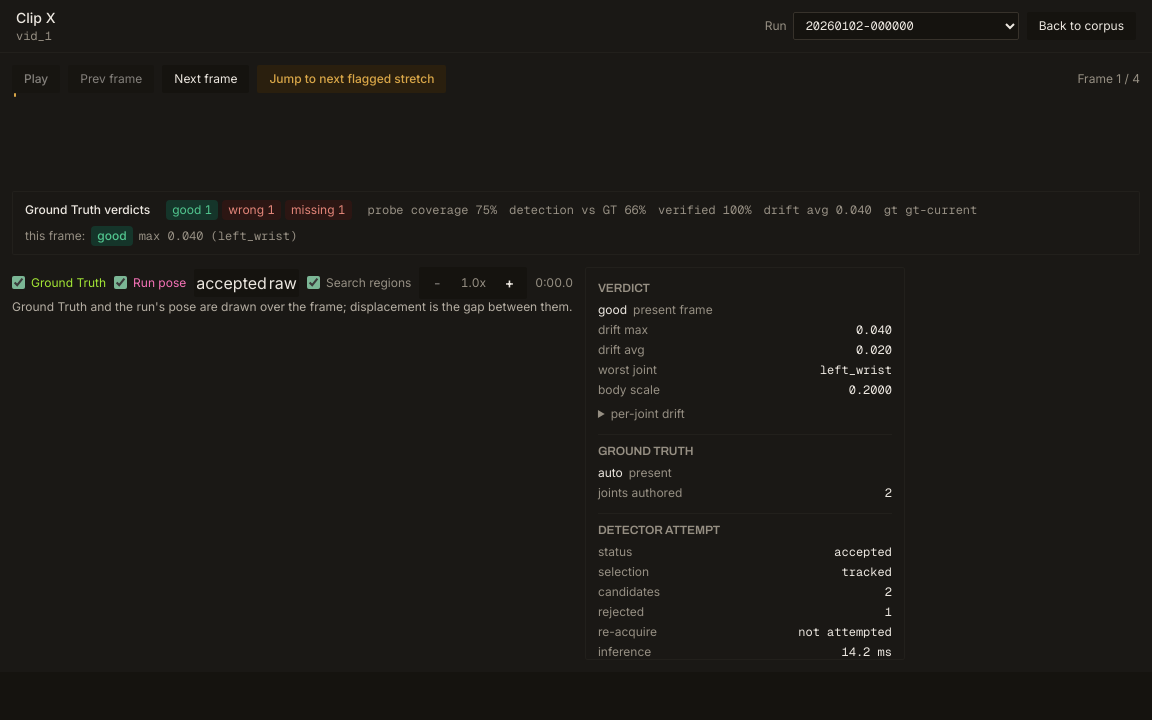
Test case: RunReviewer › switches payloads when another run is selected
The width and height of the screenshot is (1152, 720).
Expected: the text "tracked" is shown, [842,564,892,580]
Select "20260103-000000 · unpaired" in the dropdown named "Detection run": (906, 26) [793,12,1019,40]
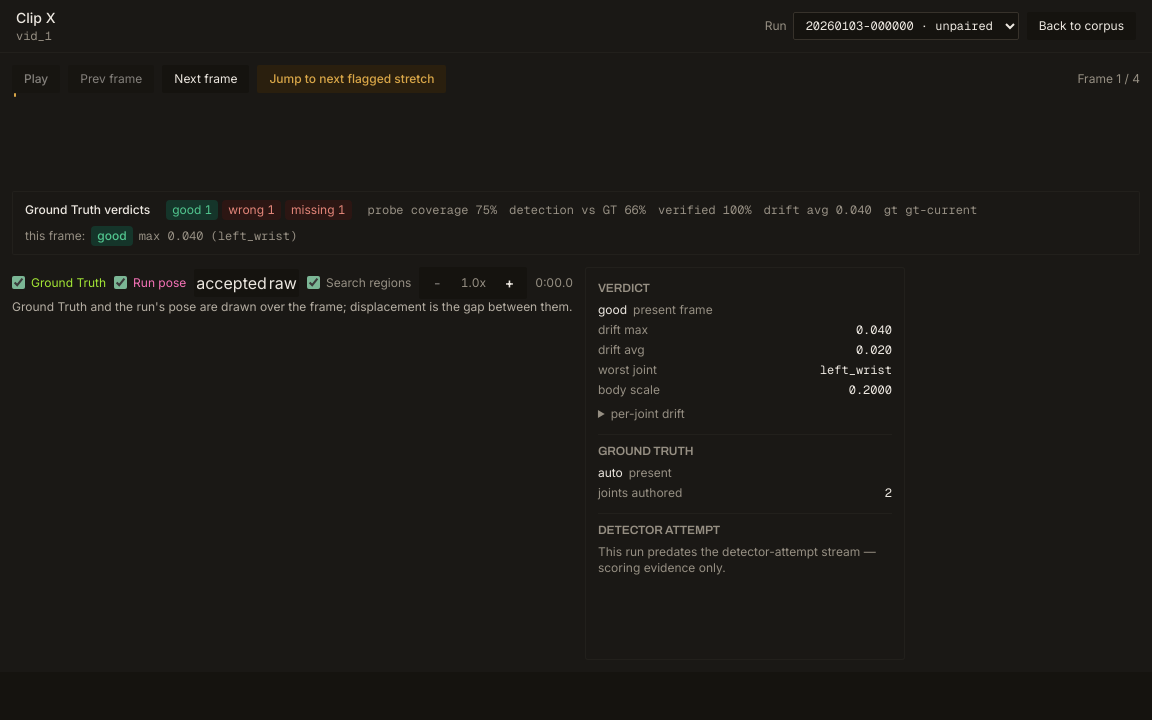
Result: the text "predates the detector-attempt stream" is shown at [598,544,876,575]
Result: the text "tracked" is gone
